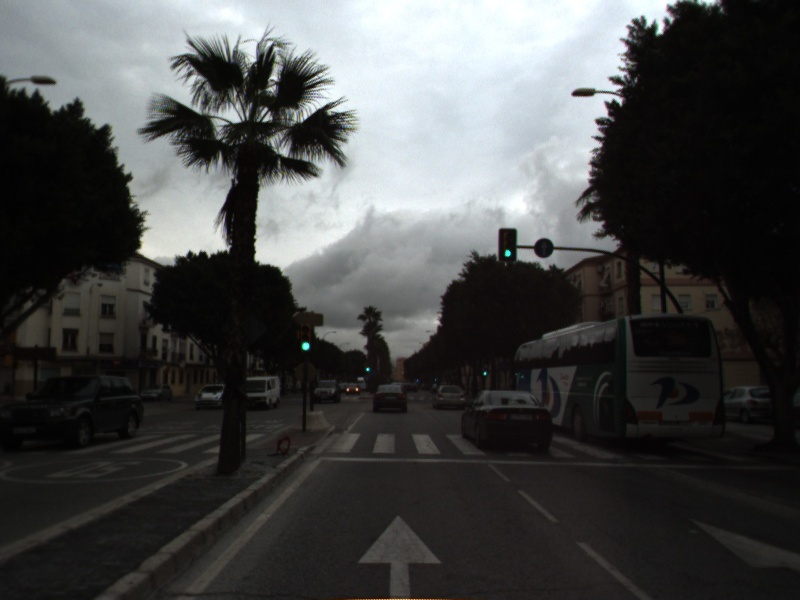STRAIGHT: (354, 511, 446, 600)
